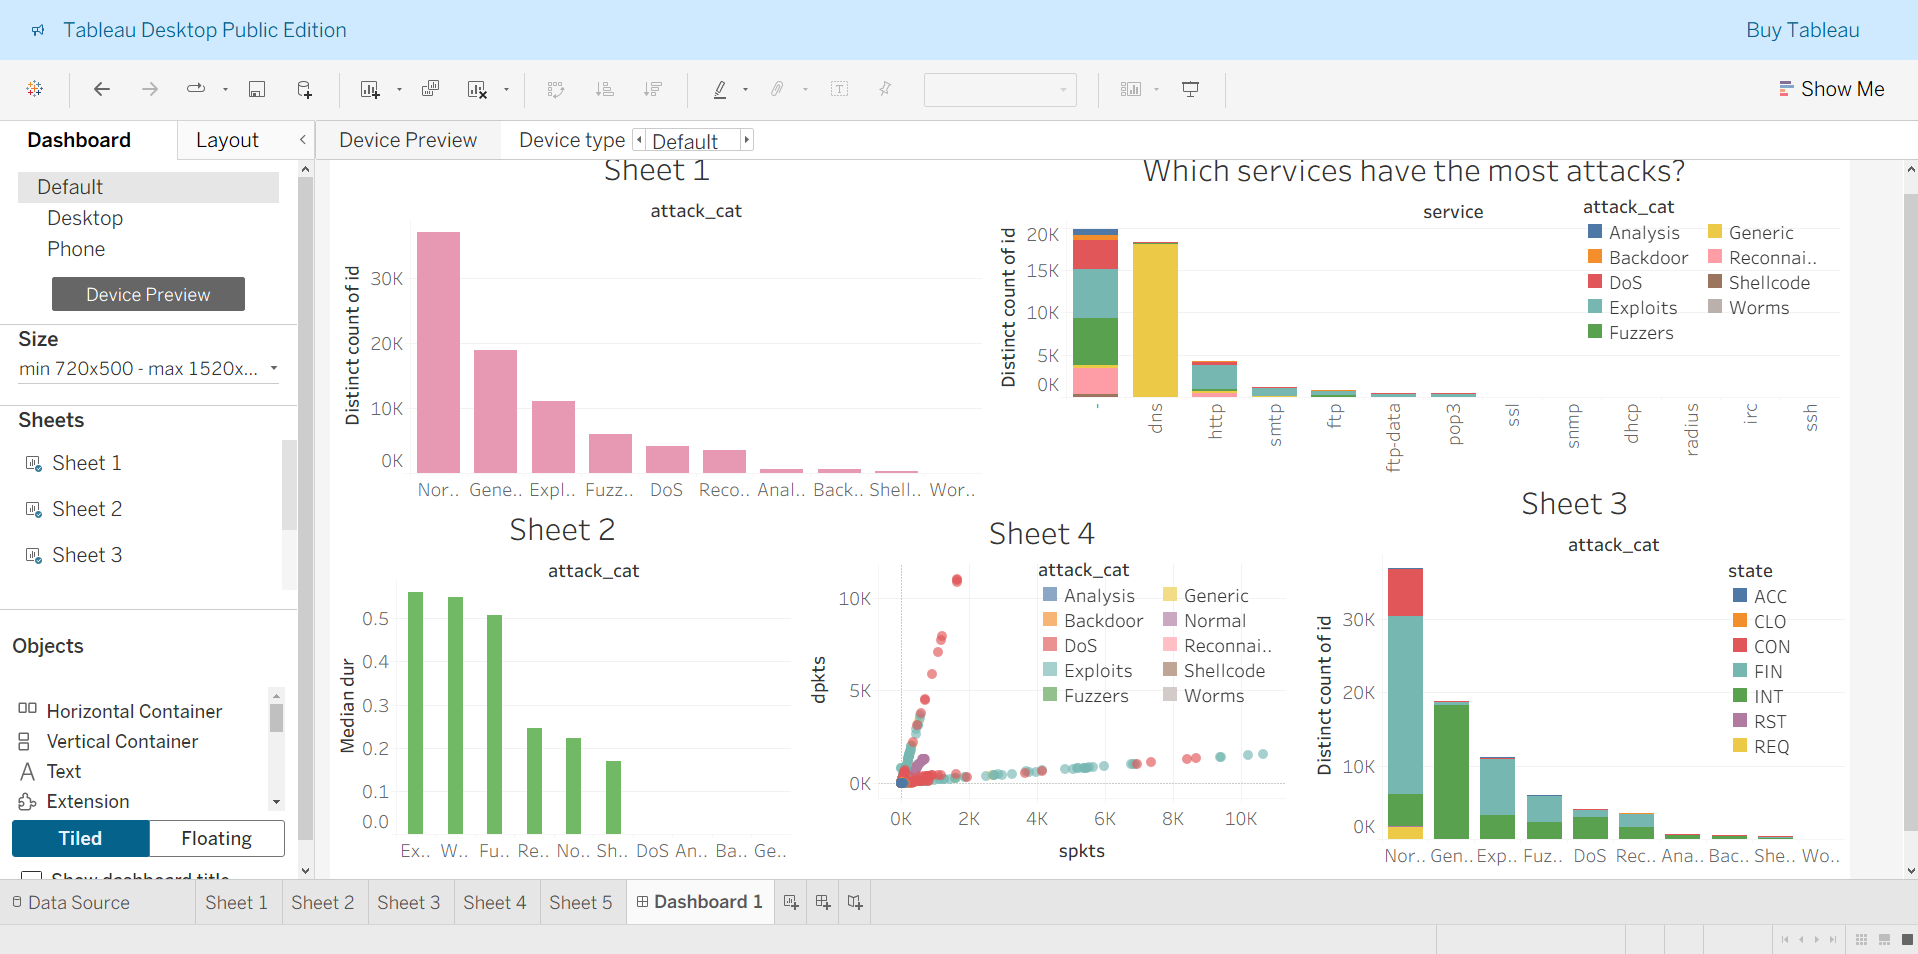

This screenshot's page, from the dashboard's own definition file:
{"tool":"tableau","page":{"name":"Dashboard 1","canvas":[1000,1000],"units":"permille","ordinal":0},"visuals":[{"type":"worksheet","title":"Sheet 1","mark":"Automatic","rows":["ÿid"],"cols":["attack_cat"],"box":[1.3,4,427.6,486.2]},{"type":"worksheet","title":"Sheet 5","mark":"Automatic","rows":["ÿid"],"cols":["service"],"box":[432.9,5.3,560.5,450.6]},{"type":"legend","title":"Sheet 5","param":"[federated.0bo4uq91aethy315rnwxz17v45da].[none:attack_cat:nk]","box":[824.3,71.2,171.1,226.6]},{"type":"worksheet","title":"Sheet 3","mark":"Automatic","rows":["ÿid"],"cols":["attack_cat"],"box":[640.8,455.9,355.9,529.6]},{"type":"worksheet","title":"Sheet 2","mark":"Automatic","rows":["dur"],"cols":["attack_cat"],"box":[2.6,491.4,300.7,487.5]},{"type":"worksheet","title":"Sheet 4","mark":"Circle","rows":["dpkts"],"cols":["spkts"],"box":[307.9,496.7,321.1,490.1]},{"type":"legend","title":"Sheet 4","param":"[federated.0bo4uq91aethy315rnwxz17v45da].[none:attack_cat:nk]","box":[465.8,562.6,187.5,218.7]},{"type":"legend","title":"Sheet 3","param":"[federated.0bo4uq91aethy315rnwxz17v45da].[none:state:nk]","box":[919.7,563.9,62.5,289.9]}]}

Visuals, with their boxes on the dashboard's canvas, which has no fixed pixel size, in thousandths of its width and height (x1, y1, x2, y2). These are canvas units, not pixel positions in the 1918x954 screenshot, which may show the page scaled, cropped or inside an application window:
"Sheet 1" worksheet: l=1, t=4, r=429, b=490
"Sheet 5" worksheet: l=433, t=5, r=993, b=456
"Sheet 5" legend: l=824, t=71, r=995, b=298
"Sheet 3" worksheet: l=641, t=456, r=997, b=986
"Sheet 2" worksheet: l=3, t=491, r=303, b=979
"Sheet 4" worksheet (Circle marks): l=308, t=497, r=629, b=987
"Sheet 4" legend: l=466, t=563, r=653, b=781
"Sheet 3" legend: l=920, t=564, r=982, b=854
